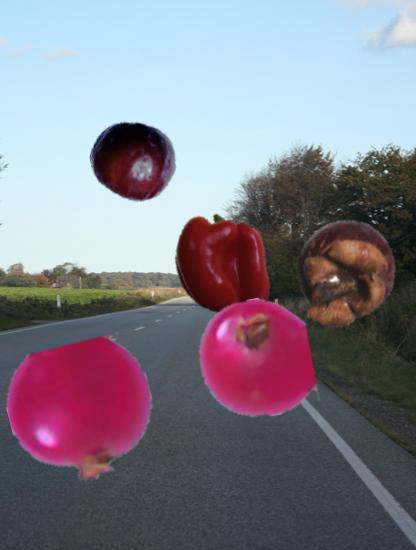Mangostan: (289, 218, 402, 331)
Pepper: (172, 215, 277, 320)
Plum: (90, 118, 177, 205)
Redcurrant: (9, 340, 154, 485), (196, 299, 316, 419)
